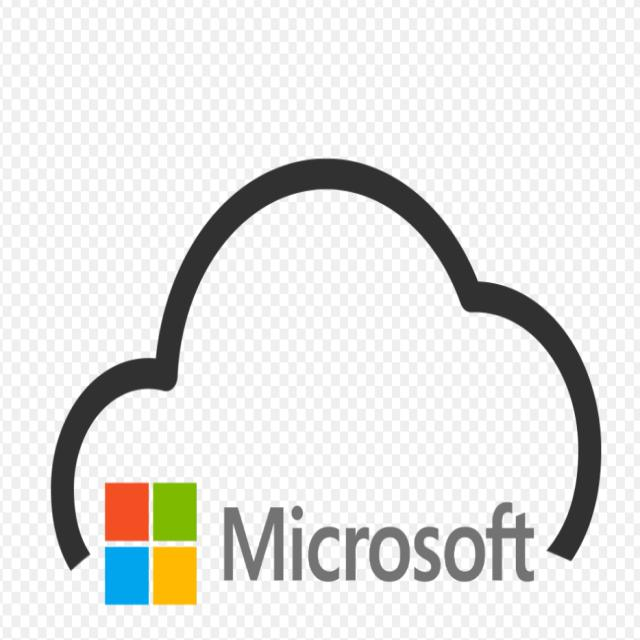microsoft: (104, 482, 198, 606)
microsoft_txt: (223, 502, 534, 580)
